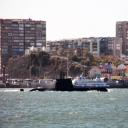submarine: (21, 73, 109, 92)
